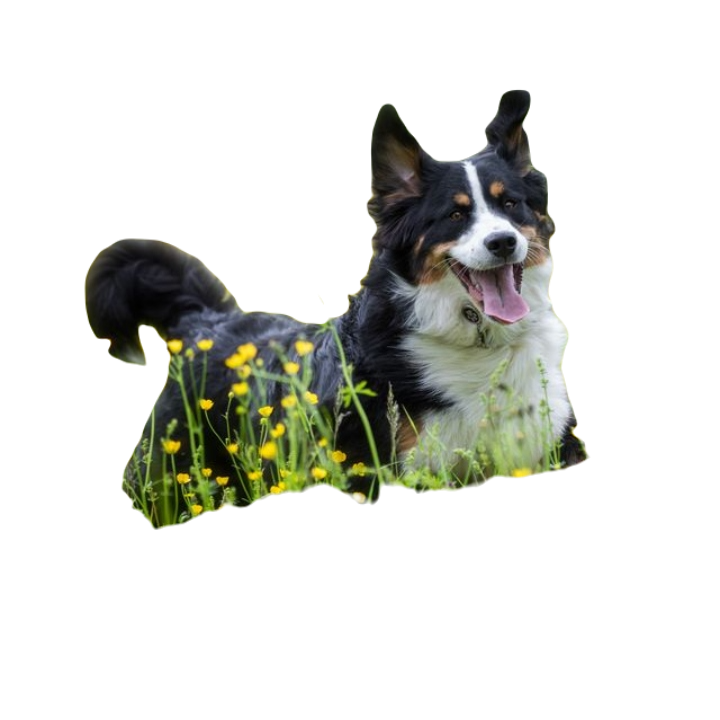Dog: (80, 87, 601, 531)
